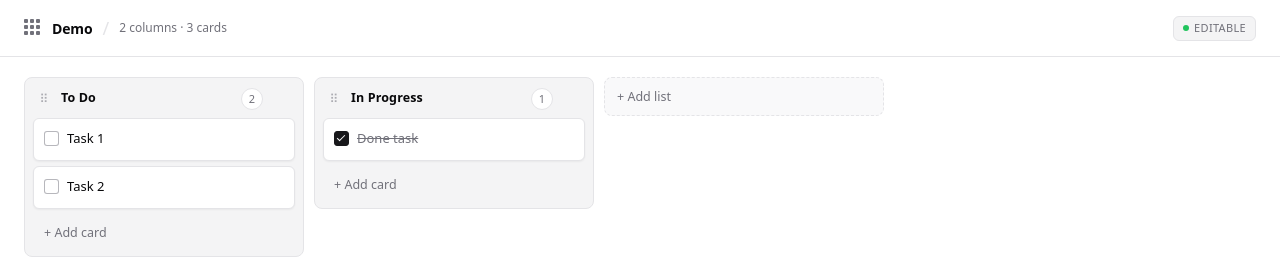
Board live sync › dirty: a remote bump while a local edit is pending does not drop the edit and converges
# Start a local edit that is still debouncing (toggle Task 1 → checked).
Click the 1st checkbox: click(52, 138) [44,131,59,146]
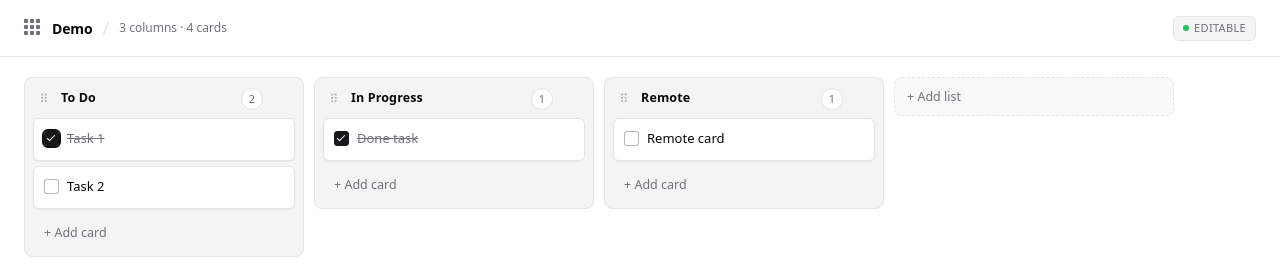
Now the 1st checkbox is checked, box [44,131,59,146]
Now the button "Remote" is shown, box [641,89,690,106]
